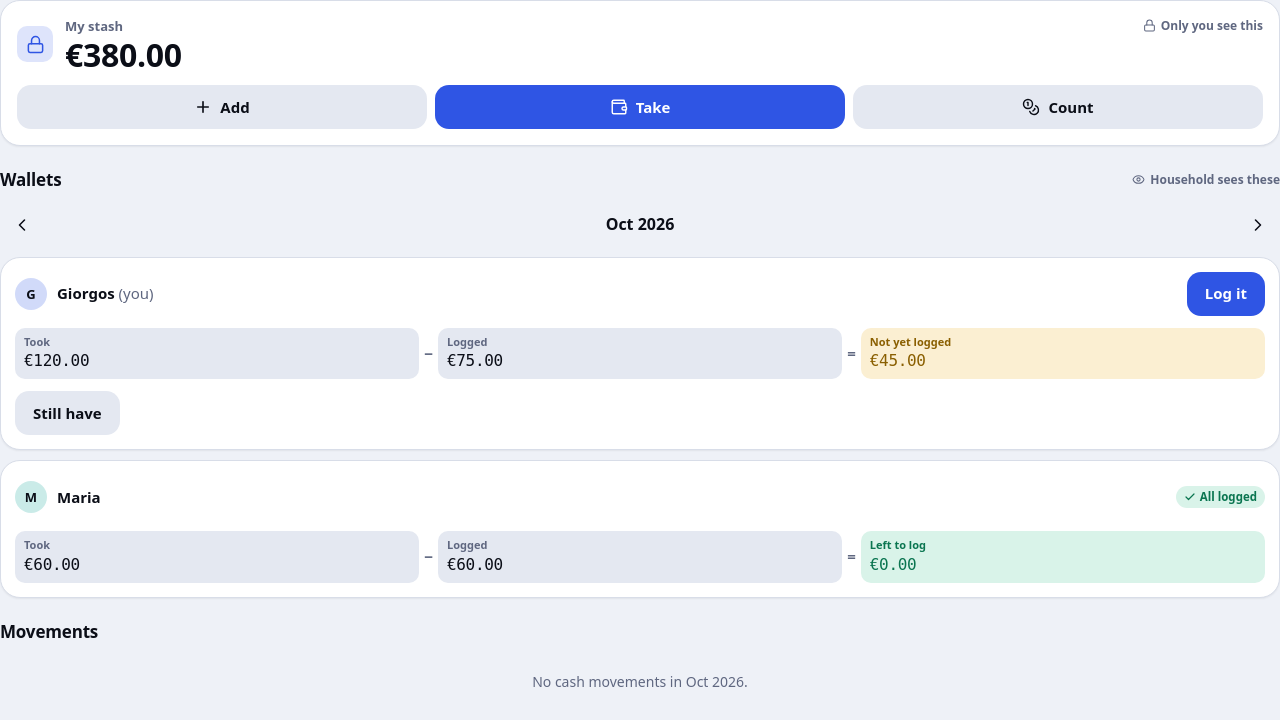
it: the own-stash pre-check blocks the save and says why
Click the button "Take" at (640, 107), box [435,85,845,129]
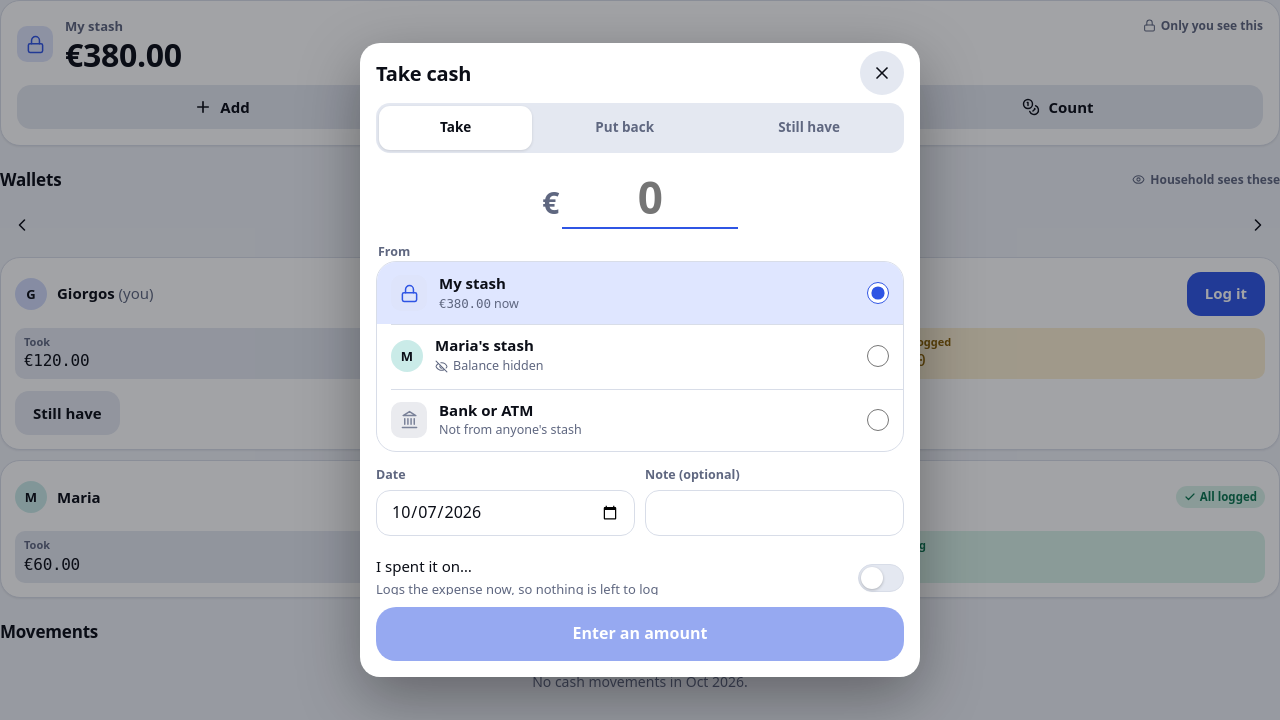
Type "380.01" into the field named "Amount" at (650, 198), box [562,167,738,229]
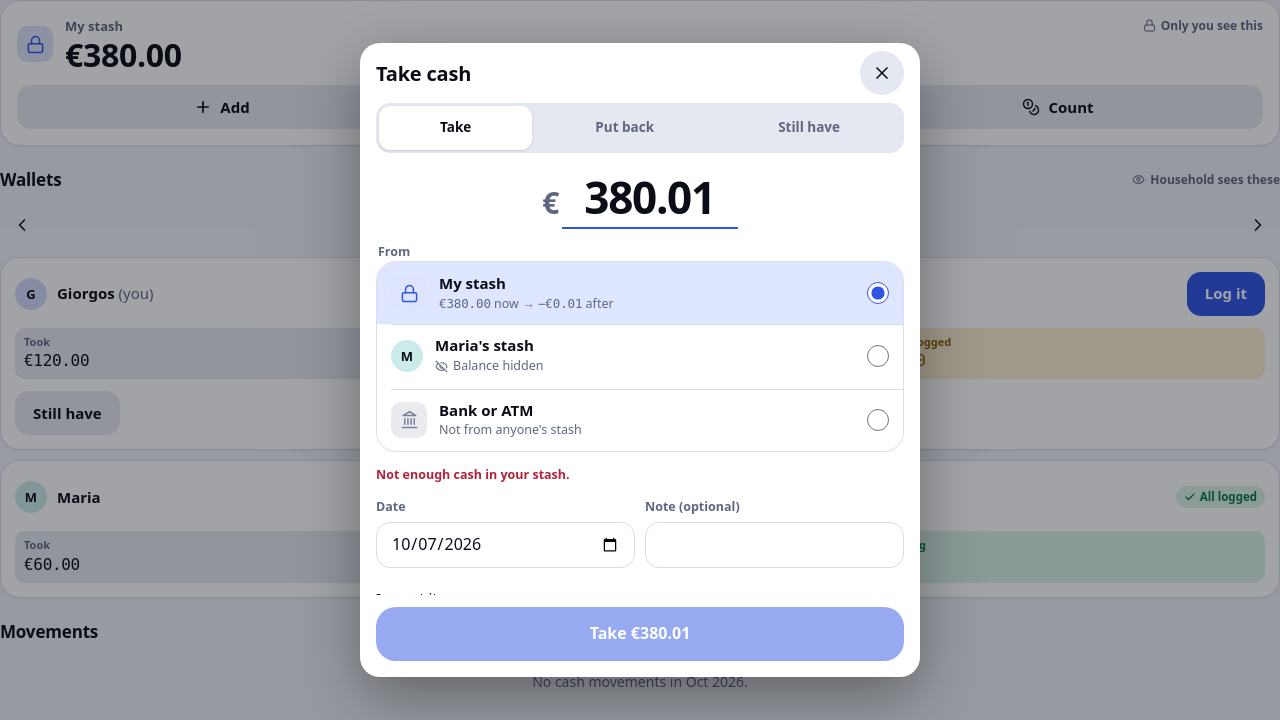
Now the button "Take €380.01" is disabled, box [376,607,904,661]
Now the text "Not enough cash in your stash." is shown, box [376,466,570,482]
Replace the text in the field named "Amount" with "380" at (650, 198), box [562,167,738,229]
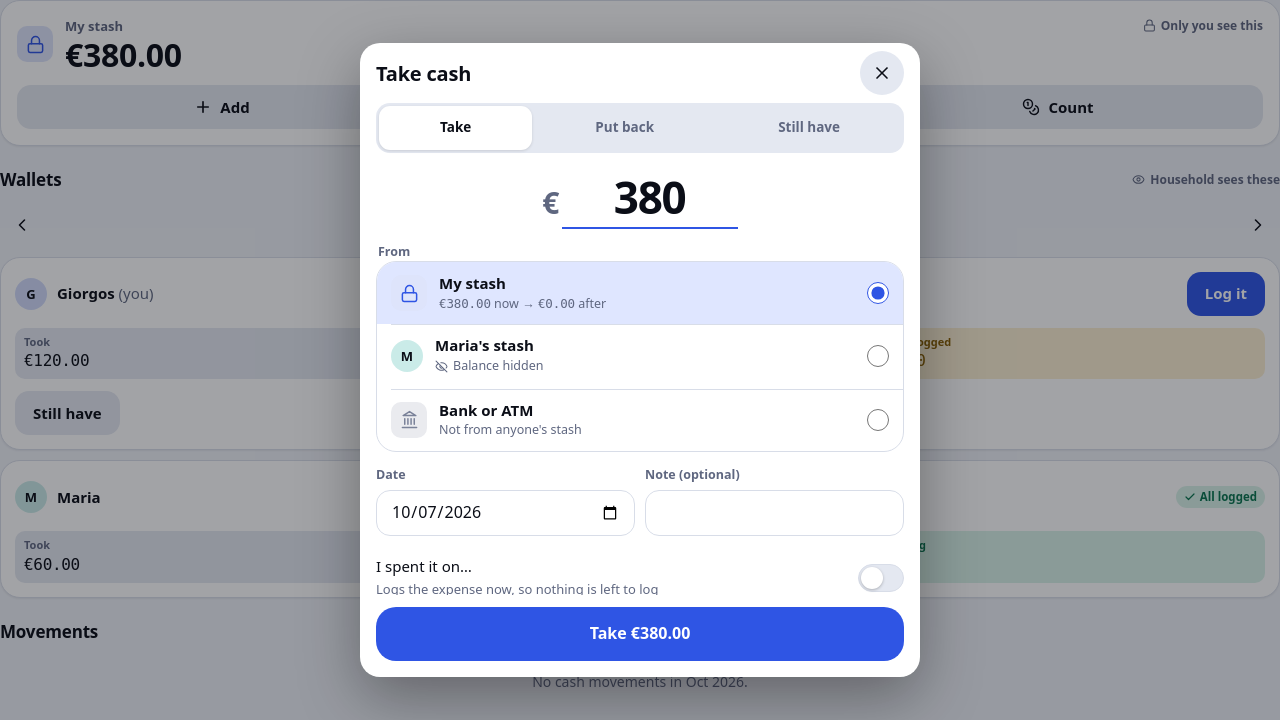
Now the text "Not enough cash in your stash." is gone
